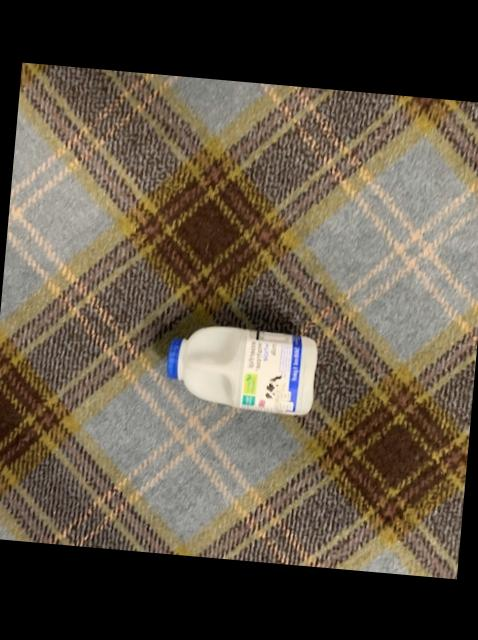plastic: (166, 324, 315, 412)
